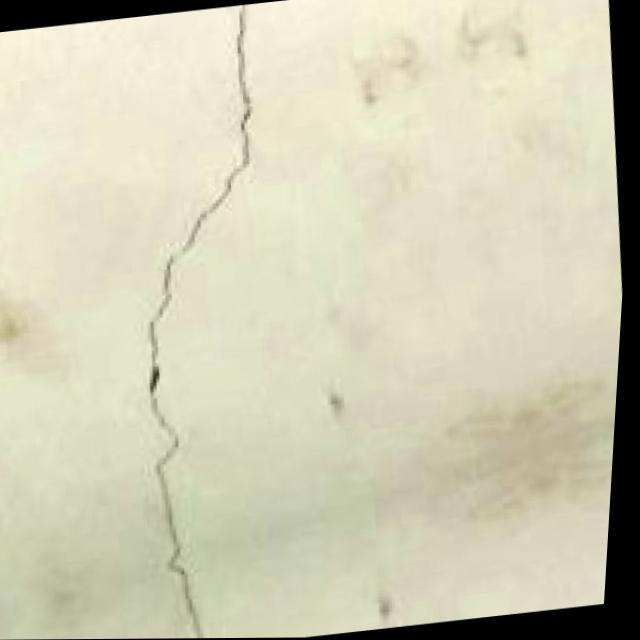Crack: (61, 1, 343, 639)
